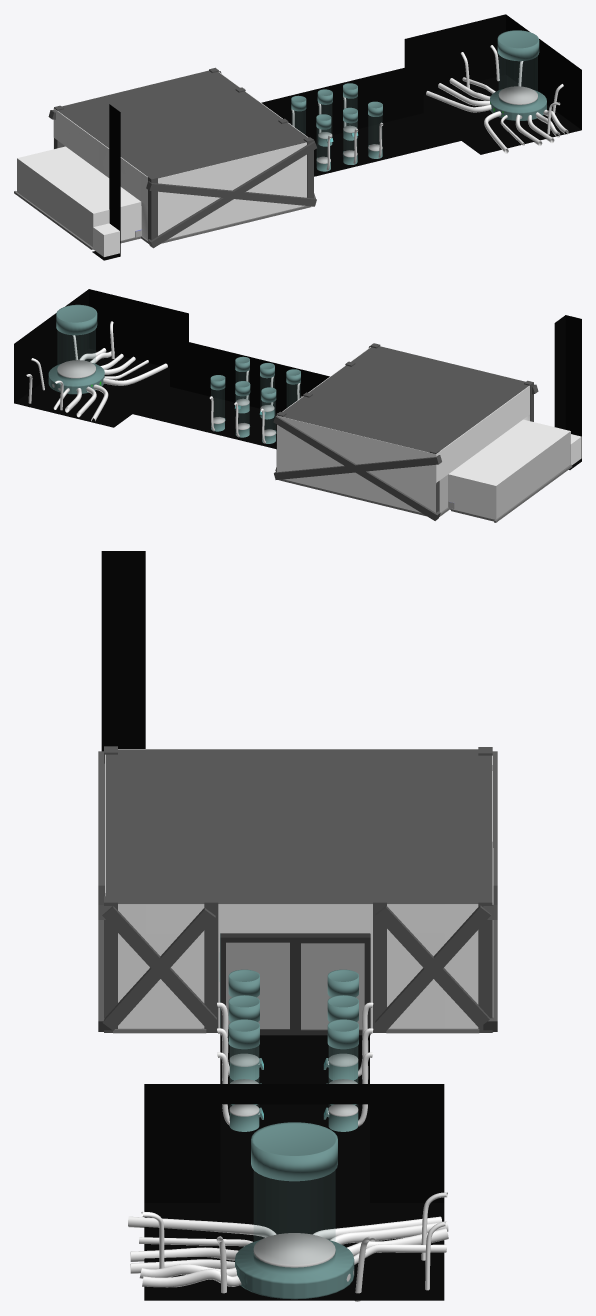
File: Lvl3.glb
3 renders of one model, top to bottom at view 1: azimuth 30°, elevation 25°; view 2: azimuth 150°, elevation 25°; view 3: azimuth 270°, elevation 25°, orthographic. The views are drawn at different scales.
Visible parts, largest first — view 1: labBase-col, Supports-col, MasaTube-col, ElevatorShaft-col, SeeTube.006-col, Lift-col, Zocalos.002, NurbsPath.006-col, NurbsPath.007-col, NurbsPath.008-col, NurbsPath.009-col, NurbsPath.010-col (+1 smaller); view 2: labBase-col, Supports-col, ElevatorShaft-col, MasaTube-col, SeeTube.006-col, NurbsPath.010-col, NurbsPath.009-col, NurbsPath.011-col, NurbsPath.007-col, NurbsPath.008-col, Zocalos.001, Tube1.006-col (+3 smaller); view 3: labBase-col, Supports-col, MasaTube-col, ElevatorShaft-col, MotherDoor2-col, MotherDoor-col, SeeTube.006-col, NurbsPath.009-col, NurbsPath.008-col, NurbsPath.011-col, NurbsPath.006-col, Tube1.006-col (+7 smaller).
Boxes of the visible parts, bbox=[...] form: labBase-col: bbox=[17, 14, 581, 246]; Supports-col: bbox=[48, 67, 316, 248]; MasaTube-col: bbox=[490, 30, 546, 120]; ElevatorShaft-col: bbox=[92, 104, 120, 260]; SeeTube.006-col: bbox=[499, 56, 537, 93]; Lift-col: bbox=[93, 223, 119, 256]; Zocalos.002: bbox=[161, 206, 311, 243]; NurbsPath.006-col: bbox=[316, 114, 331, 171]; NurbsPath.007-col: bbox=[343, 107, 358, 164]; NurbsPath.008-col: bbox=[368, 101, 383, 158]; NurbsPath.009-col: bbox=[343, 83, 358, 140]; NurbsPath.010-col: bbox=[317, 89, 333, 146]; labBase-col: bbox=[14, 289, 570, 519]; Supports-col: bbox=[273, 343, 538, 520]; ElevatorShaft-col: bbox=[554, 315, 581, 469]; MasaTube-col: bbox=[48, 304, 104, 394]; SeeTube.006-col: bbox=[58, 330, 95, 365]; NurbsPath.010-col: bbox=[234, 381, 250, 437]; NurbsPath.009-col: bbox=[209, 375, 225, 431]; NurbsPath.011-col: bbox=[260, 387, 276, 443]; NurbsPath.007-col: bbox=[259, 363, 274, 419]; NurbsPath.008-col: bbox=[234, 356, 249, 413]; Zocalos.001: bbox=[279, 479, 426, 516]; Tube1.006-col: bbox=[103, 363, 167, 385]; labBase-col: bbox=[105, 749, 493, 1300]; Supports-col: bbox=[98, 746, 497, 1032]; MasaTube-col: bbox=[235, 1122, 354, 1299]; ElevatorShaft-col: bbox=[101, 551, 145, 751]; MotherDoor2-col: bbox=[295, 933, 370, 1035]; MotherDoor-col: bbox=[220, 933, 295, 1035]; SeeTube.006-col: bbox=[254, 1171, 334, 1245]; NurbsPath.009-col: bbox=[323, 1019, 373, 1131]; NurbsPath.008-col: bbox=[217, 1019, 263, 1131]; NurbsPath.011-col: bbox=[323, 969, 373, 1080]; NurbsPath.006-col: bbox=[217, 969, 263, 1080]; Tube1.006-col: bbox=[128, 1216, 276, 1237].
Bounding box in the file's own units: 116 × 32.77 × 41.21.
